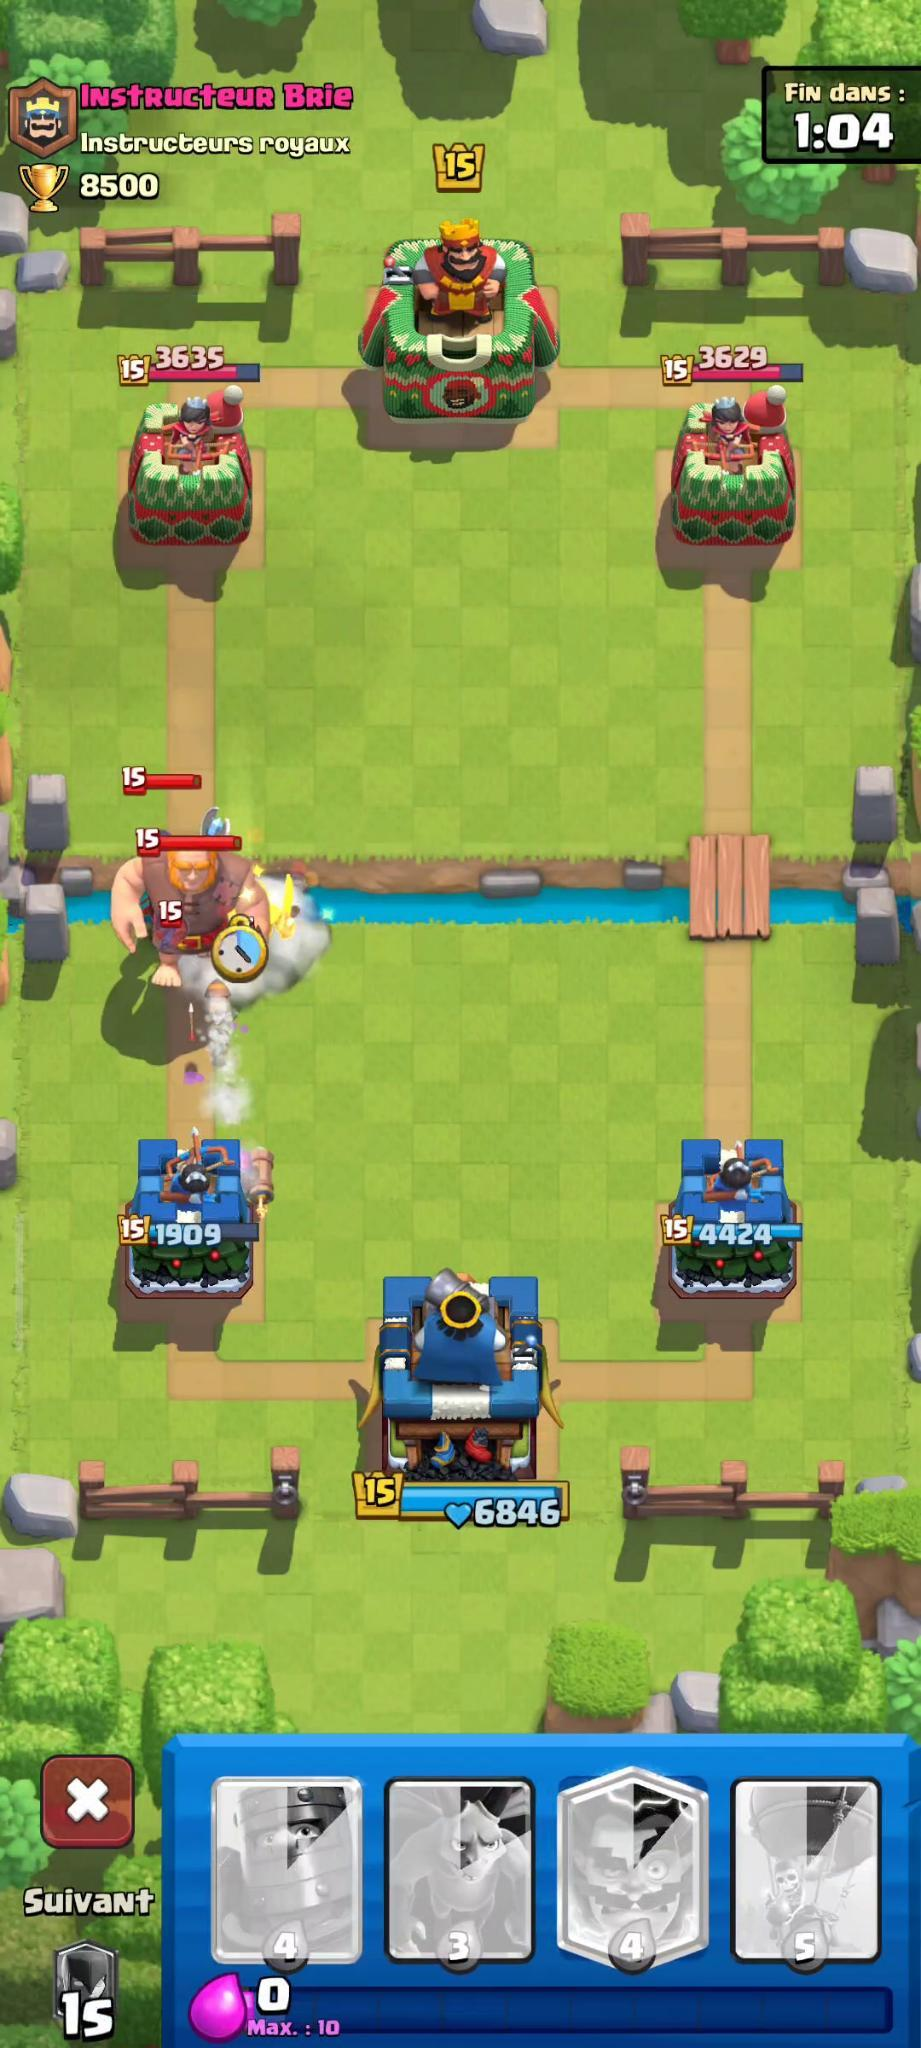enemy_bats: (140, 900, 192, 968)
enemy_giant: (107, 824, 265, 970)
player_firecraker: (240, 1138, 280, 1219)
